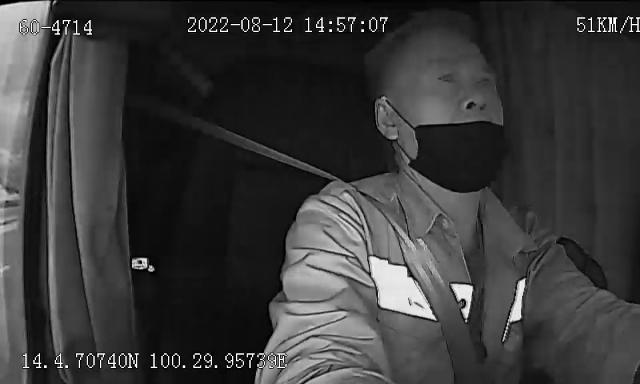Seatbelt: (215, 125, 483, 384)
